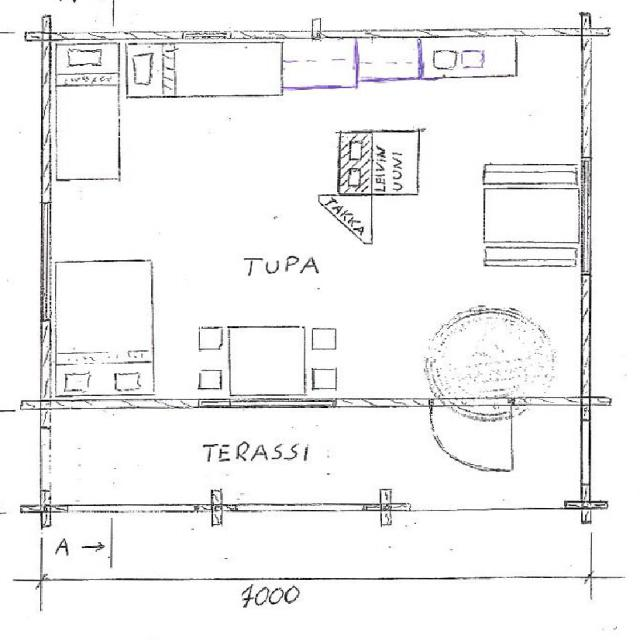door: (430, 398, 511, 476)
